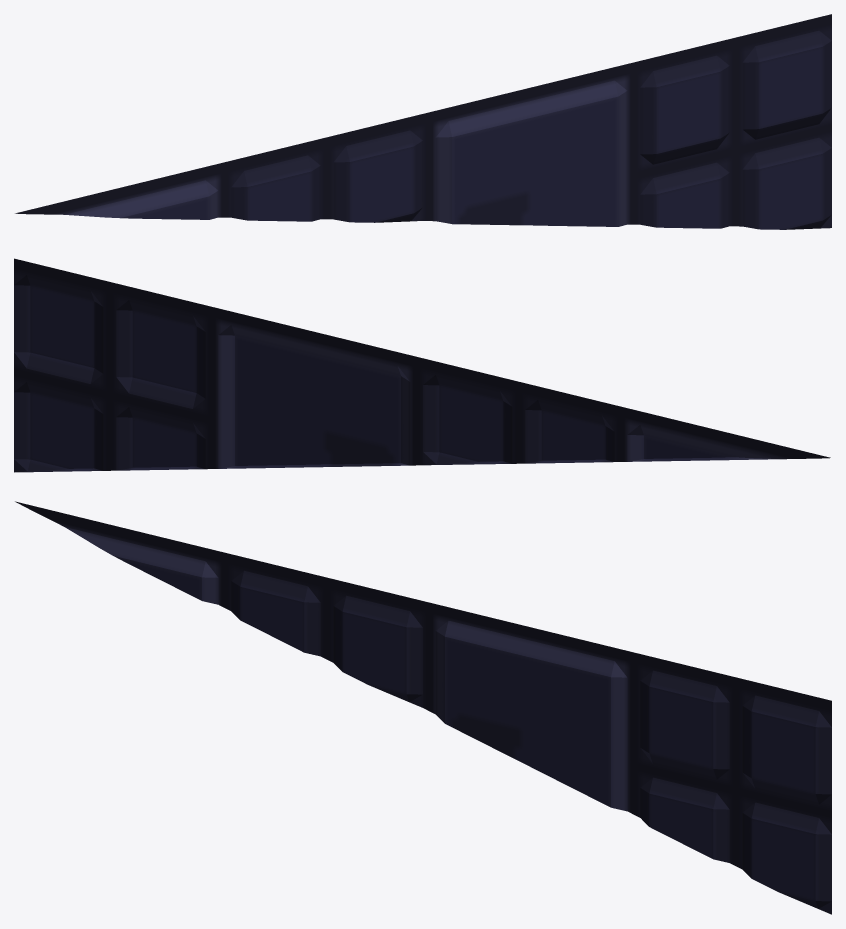
Rendered from med1_7_slice14_64.fbx.
3 views of the same model, one above another, from view 1: azimuth 30°, elevation 25°; view 2: azimuth 150°, elevation 25°; view 3: azimuth 330°, elevation 25° (orthographic).
Visible parts, largest first — view 1: med1_7_mesh; view 2: med1_7_mesh; view 3: med1_7_mesh.
Boxes of the visible parts, x1,y1,x2,y2 form: med1_7_mesh: [15, 14, 831, 229]; med1_7_mesh: [14, 258, 830, 472]; med1_7_mesh: [15, 501, 831, 914].
Bounding box in the file's own units: 256 × 64 × 2.
